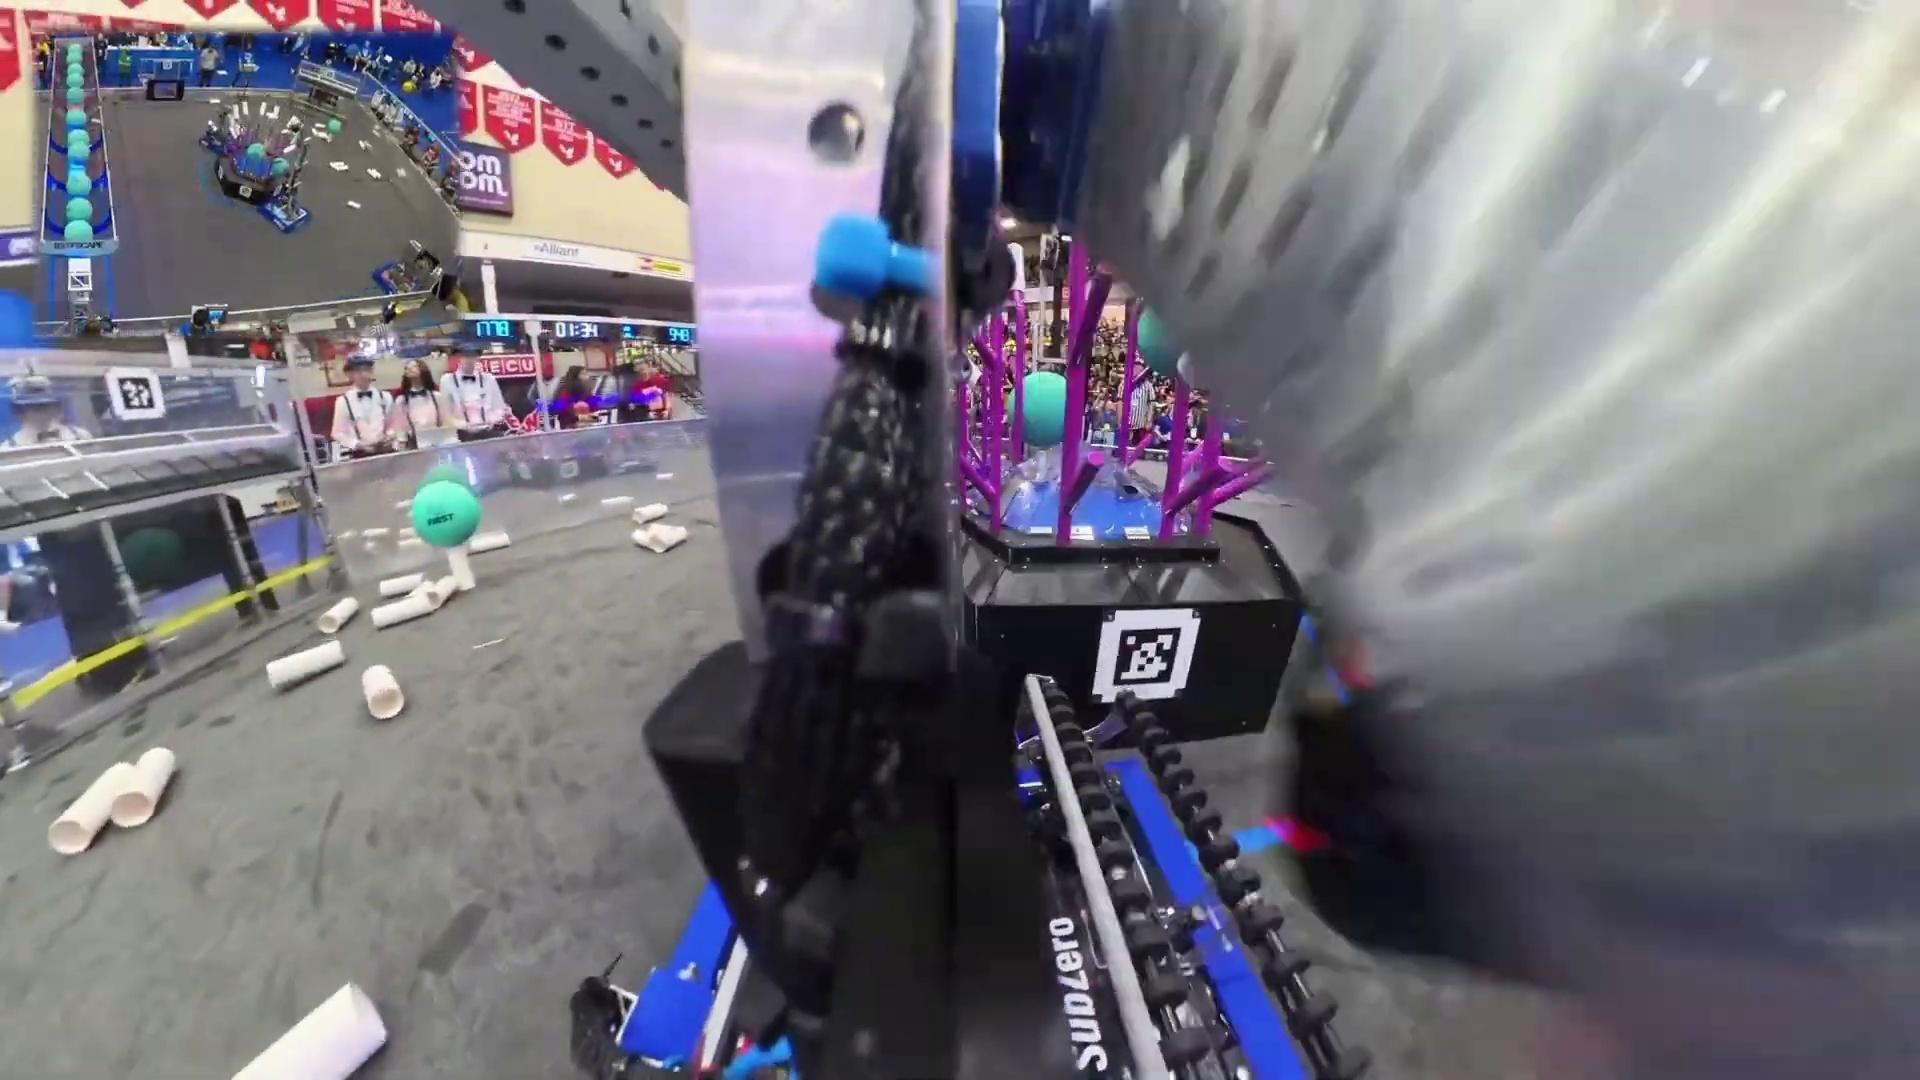robot: (260, 135, 310, 236), (367, 240, 433, 297), (199, 95, 231, 156)
